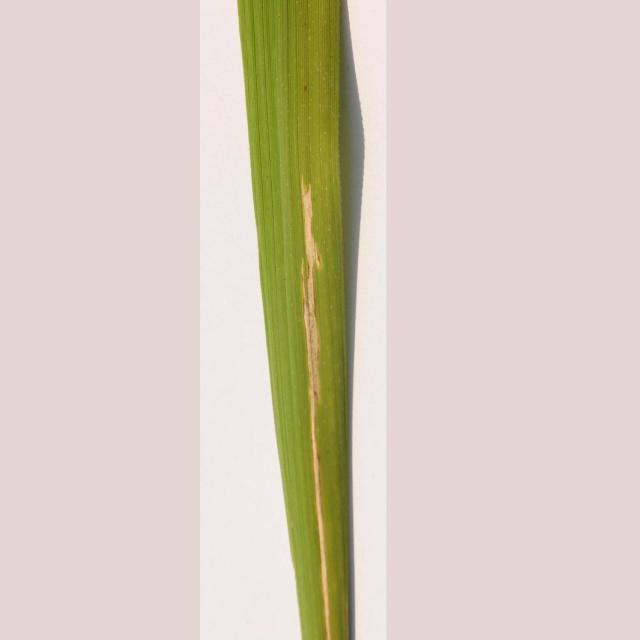leaf blight: (281, 175, 360, 636)
